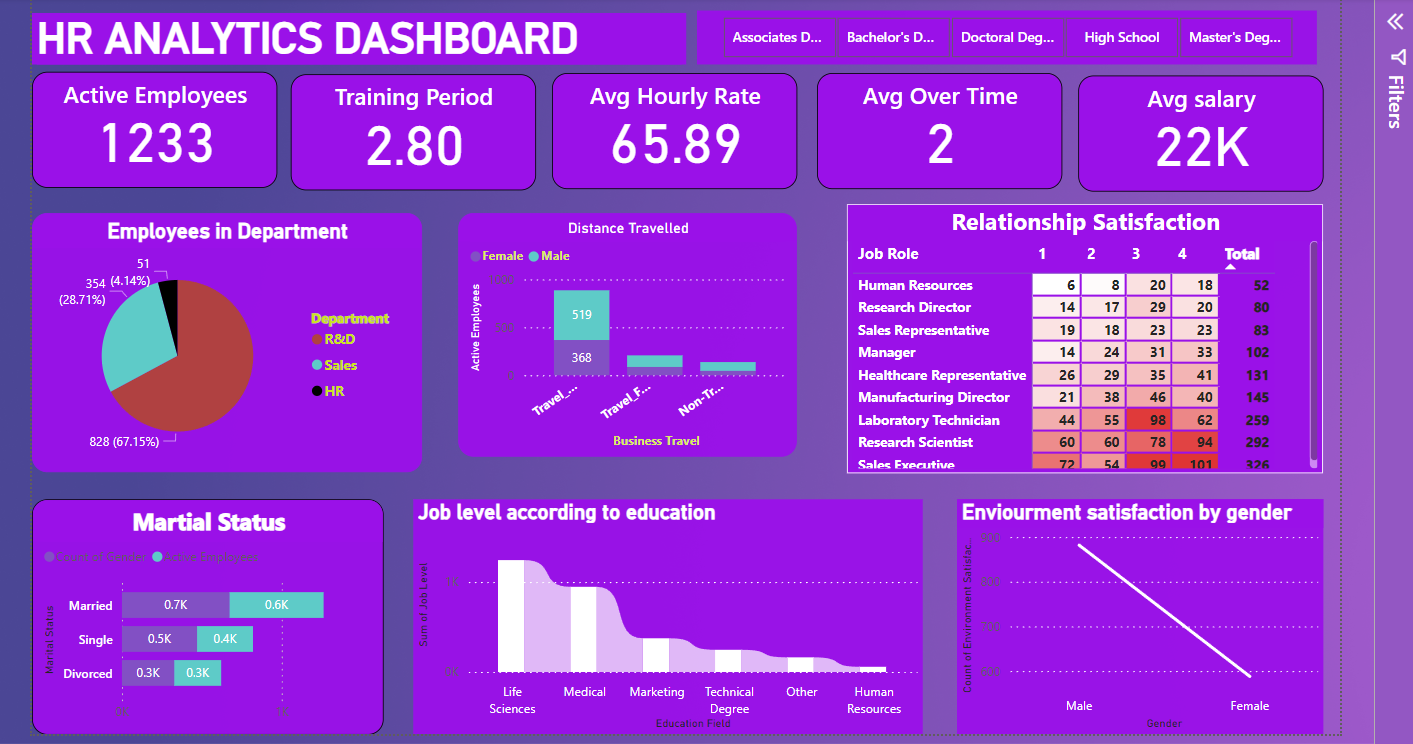

Layout of this report page (visuals, bound fields, positions):
{"tool":"powerbi","page":{"name":"Page 2","canvas":[1280,720],"ordinal":1},"visuals":[{"type":"card","title":"Active Employees","fields":{"Values":["HR data.Active Employees"]},"box":[0,72.1,239.7,113.7],"z":0},{"type":"card","title":"Avg Hourly Rate","fields":{"Values":["Avg(HR data.Hourly Rate)"]},"box":[508.7,73.4,239.7,113.7],"z":1000},{"type":"card","title":" Avg Over Time","fields":{"Values":["Count(HR data.Over Time)"]},"box":[767.9,73.4,239.7,113.7],"z":2000},{"type":"card","title":"Avg salary ","fields":{"Values":["Sum(HR data.Percent Salary Hike)"]},"box":[1023.5,75.8,239.7,113.7],"z":3000},{"type":"pieChart","title":" Employees in Department","fields":{"Category":["HR data.Department"],"Y":["HR data.Active Employees"]},"box":[0,210,381.2,253.8],"z":4000},{"type":"columnChart","title":"Distance Travelled","fields":{"Category":["HR data.Business Travel"],"Series":["HR data.Gender"],"Y":["HR data.Active Employees"]},"box":[417.1,210,331.4,238.6],"z":5000},{"type":"card","title":"Training Period","fields":{"Values":["Avg(HR data.Training Times Last Year)"]},"box":[253.1,74.6,239.7,113.7],"z":6000},{"type":"barChart","title":"Martial Status","fields":{"Category":["HR data.Marital Status"],"Y":["CountNonNull(HR data.Gender)","HR data.Active Employees"]},"box":[0,490,344.3,230],"z":7000},{"type":"pivotTable","title":"Relationship Satisfaction","fields":{"Values":["Sum(HR data.Employee Count)"],"Columns":["HR data.Relationship Satisfaction"],"Rows":["HR data.Job Role"]},"box":[797.1,201.4,465.7,262.9],"z":8000},{"type":"ribbonChart","title":"Job level according to education","fields":{"Y":["Sum(HR data.Job Level)"],"Category":["HR data.Education Field"]},"box":[372.9,490,498.6,230],"z":9000},{"type":"textbox","title":"HR ANALYTICS DASHBOARD","box":[0,15,640,50],"z":10000},{"type":"lineChart","title":"Enviourment satisfaction by gender","fields":{"Category":["HR data.Gender"],"Y":["CountNonNull(HR data.Environment Satisfaction)"]},"box":[904.3,490,358.6,230],"z":11000},{"type":"slicer","fields":{"Values":["HR data.Education"]},"box":[650,12.5,606.2,52.5],"z":12000}]}

Visuals, with their boxes on the page's 1280x720 design canvas (x1, y1, x2, y2). These are canvas units, not pixel positions in the 1413x744 screenshot, which may show the page scaled, cropped or inside an application window:
"Active Employees" card: (0, 72, 240, 186)
"Avg Hourly Rate" card: (509, 73, 748, 187)
" Avg Over Time" card: (768, 73, 1008, 187)
"Avg salary " card: (1024, 76, 1263, 190)
" Employees in Department" pieChart: (0, 210, 381, 464)
"Distance Travelled" columnChart: (417, 210, 748, 449)
"Training Period" card: (253, 75, 493, 188)
"Martial Status" barChart: (0, 490, 344, 720)
"Relationship Satisfaction" pivotTable: (797, 201, 1263, 464)
"Job level according to education" ribbonChart: (373, 490, 872, 720)
"HR ANALYTICS DASHBOARD" textbox: (0, 15, 640, 65)
"Enviourment satisfaction by gender" lineChart: (904, 490, 1263, 720)
slicer - HR data.Education: (650, 12, 1256, 65)
